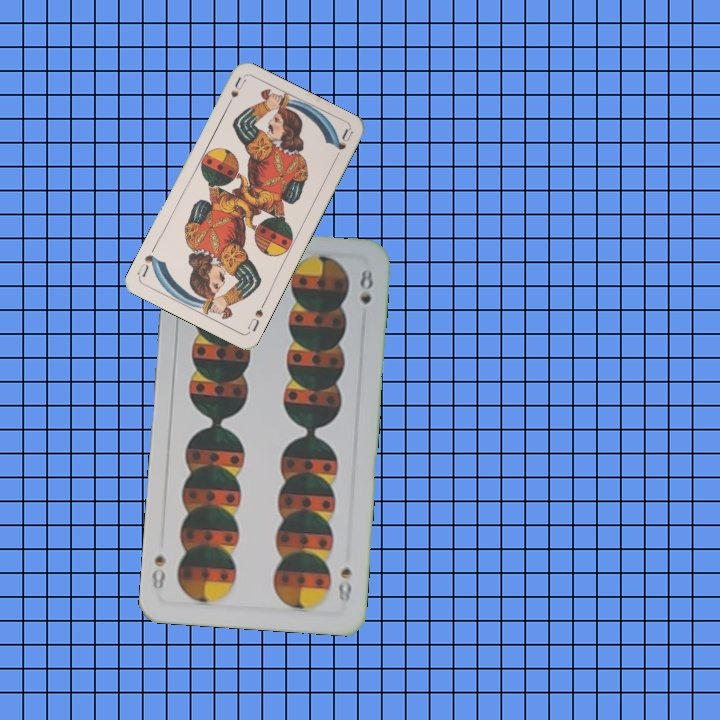S8: (334, 562, 354, 607)
SU: (222, 73, 248, 112), (243, 297, 268, 335)
